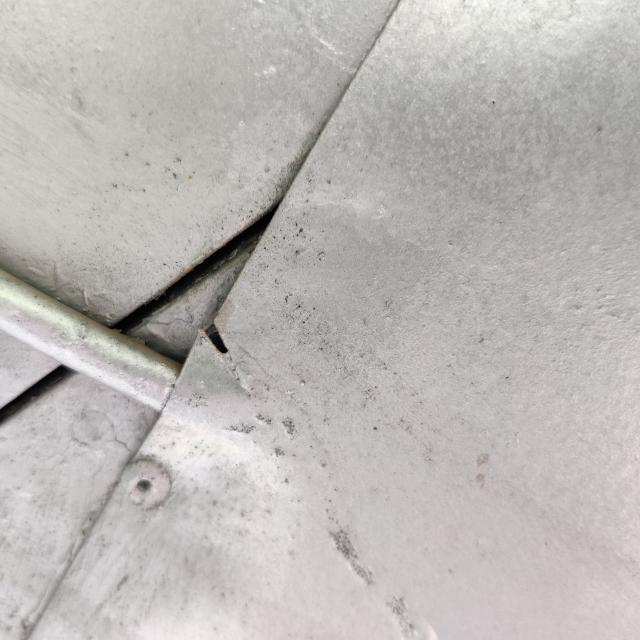Crack: (204, 323, 228, 354)
